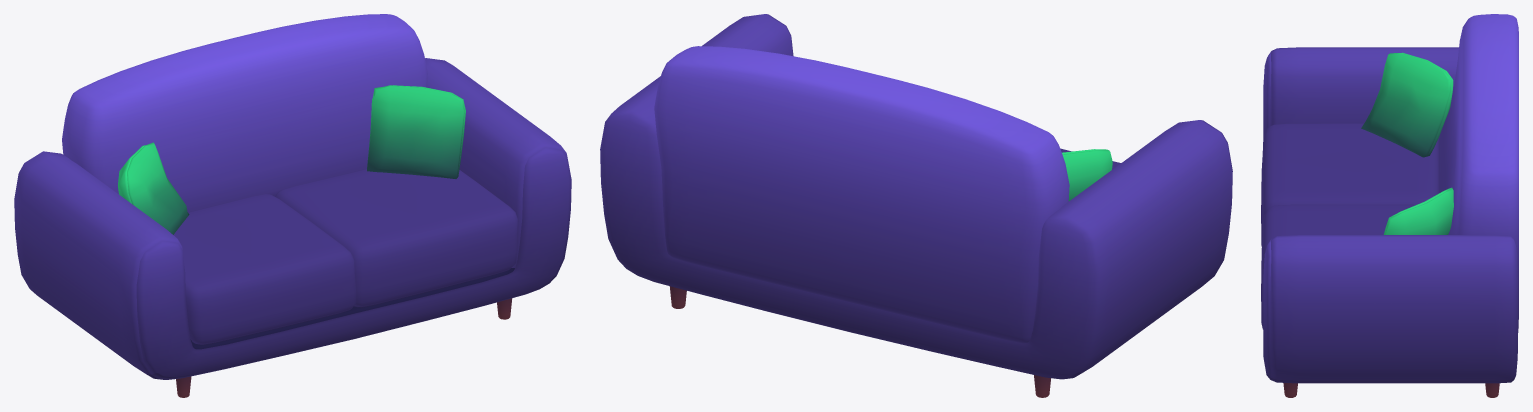
Rendered from couch.gltf.
3 views of the same model, side by side, from view 1: azimuth 30°, elevation 25°; view 2: azimuth 150°, elevation 25°; view 3: azimuth 270°, elevation 25° (orthographic). The views are drawn at different scales.
Visible parts, largest first — view 1: couch; view 2: couch; view 3: couch.
Part boxes in pixels (bbox=[...]): couch: bbox=[14, 14, 571, 397]; couch: bbox=[600, 14, 1232, 397]; couch: bbox=[1261, 14, 1518, 397].
Size of the model in its own units: 1.99 by 1.03 by 0.9977.
1 material, 1 textured.
